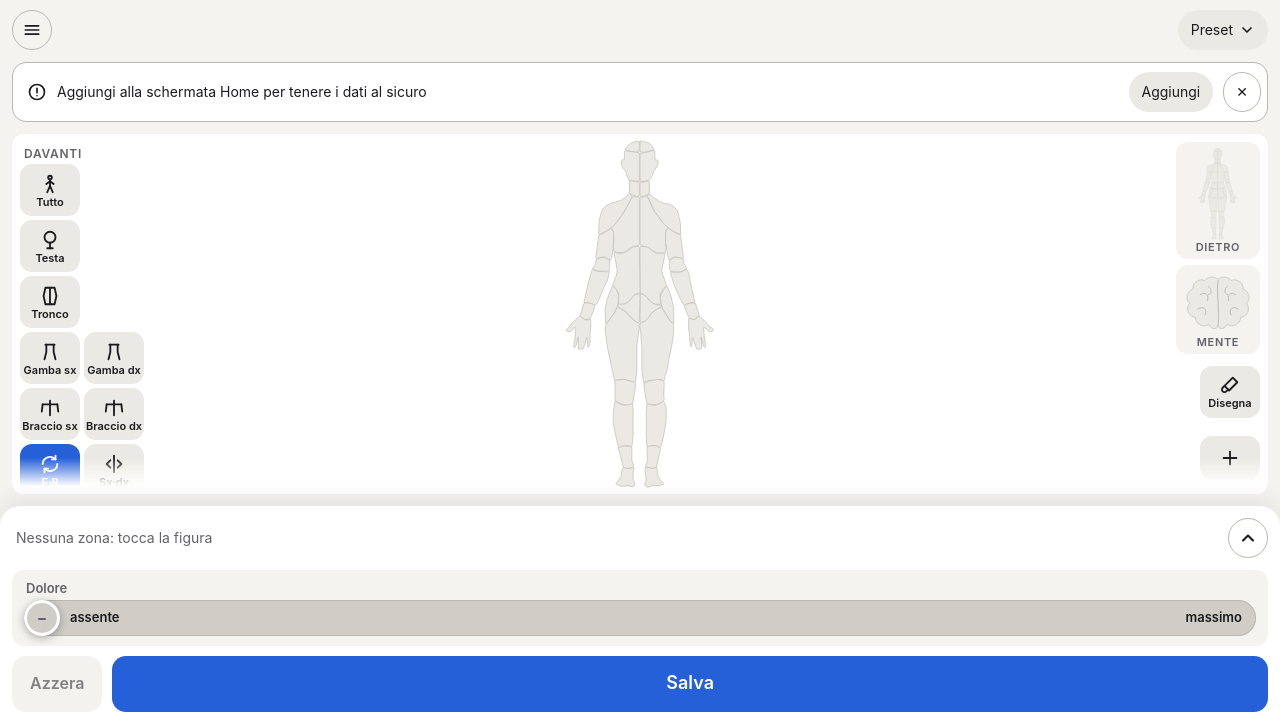
it: Log Salva › the fast path is intact: setting a level after a save makes Salva ready at once
Set the slider named "Dolore" to "4" at (518, 618), box [24,600,1256,636]
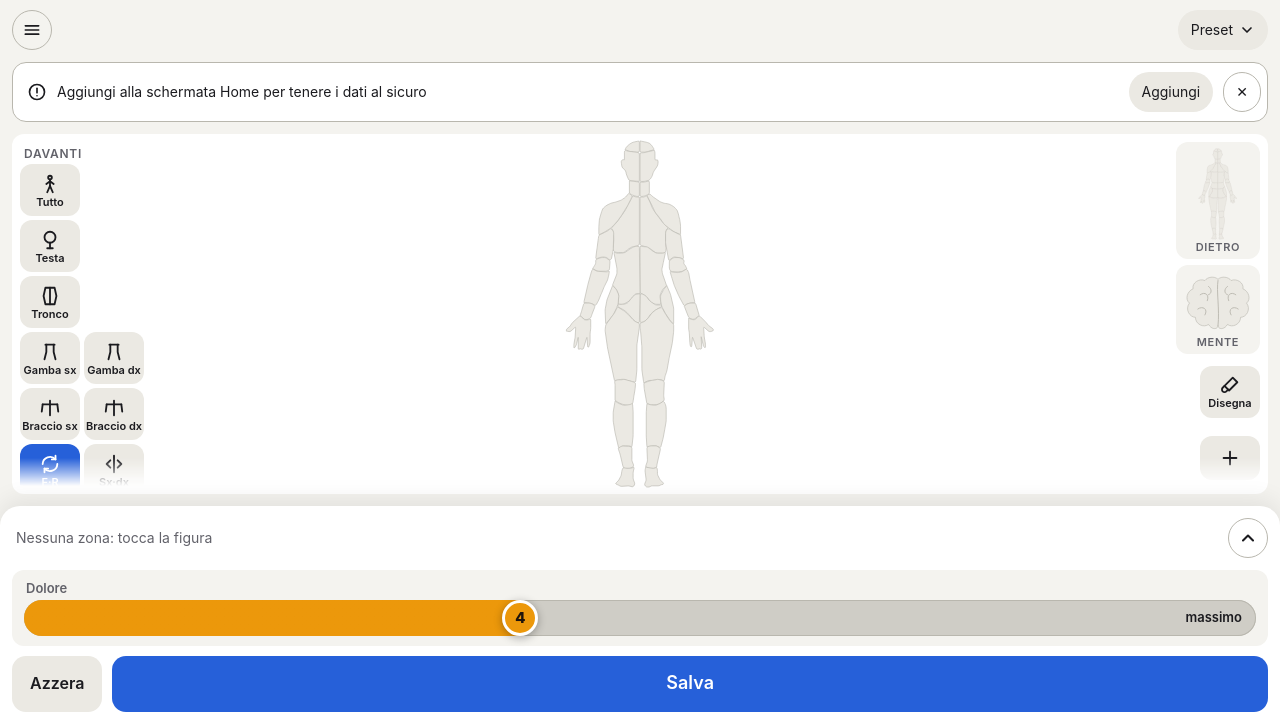
Click the button "Salva" at (690, 684), box [112,656,1268,712]
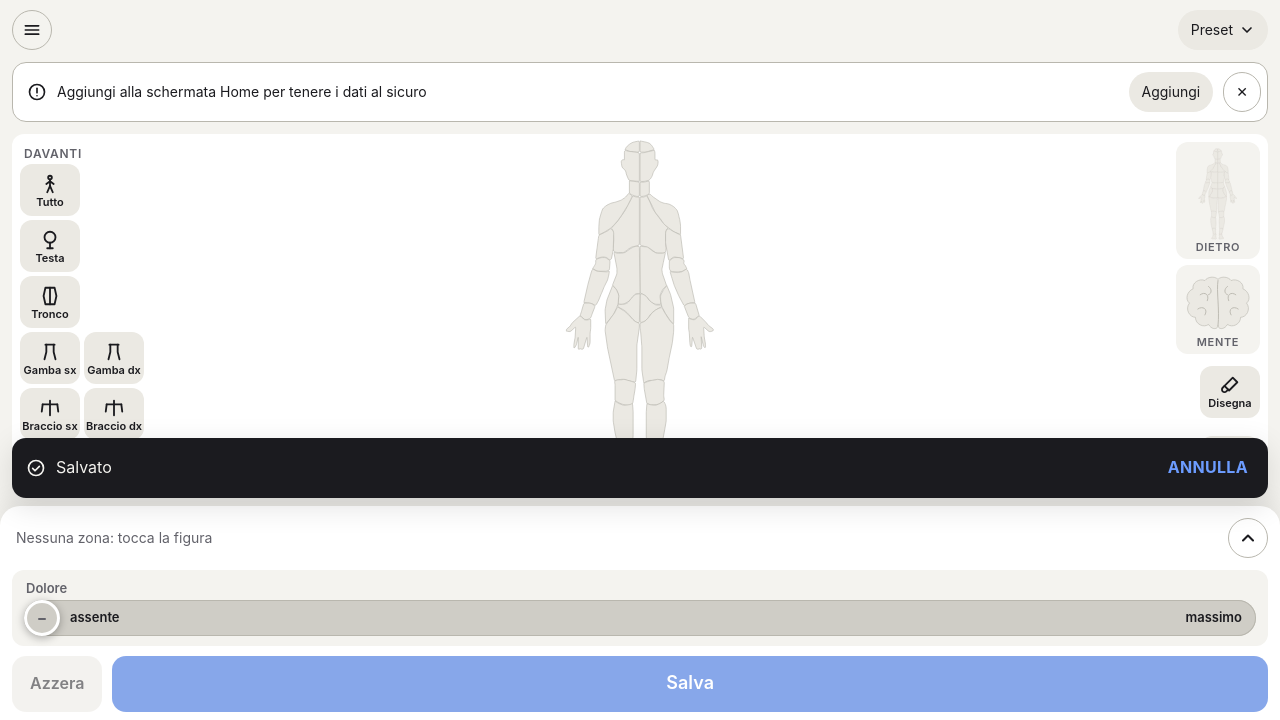
Set the slider named "Dolore" to "6" at (762, 618), box [24,600,1256,636]
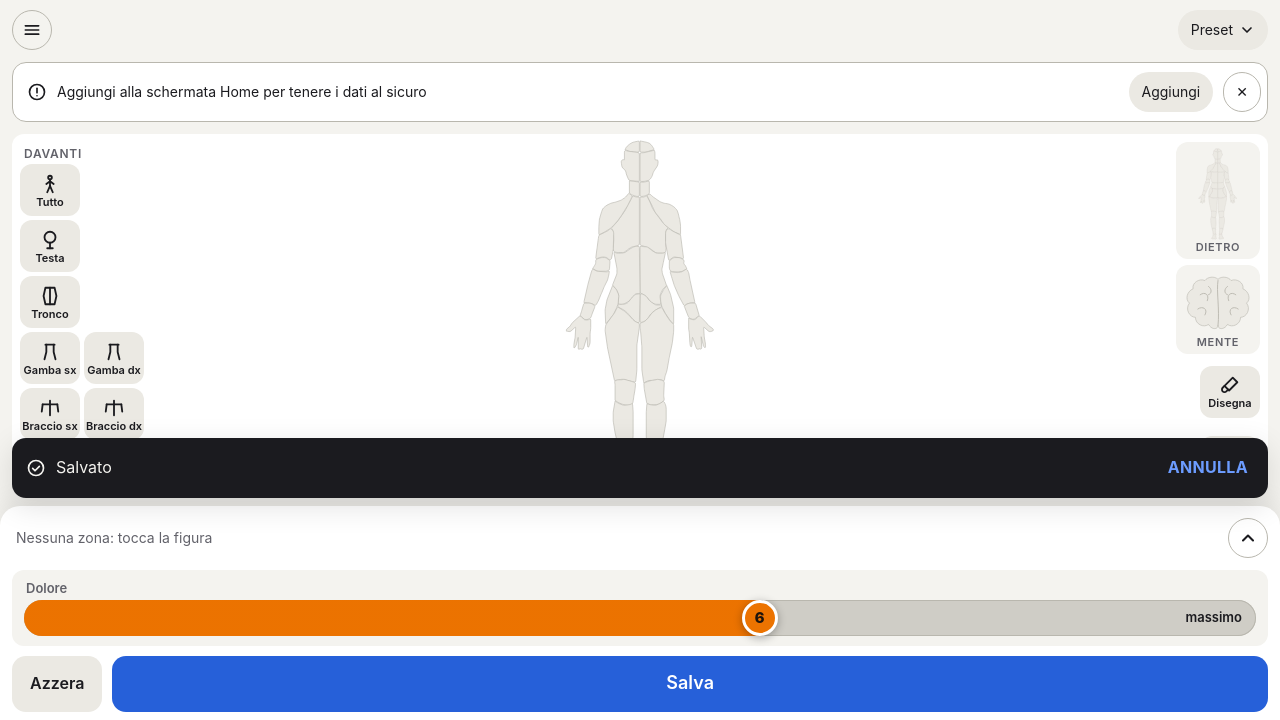
Click the button "Salva" at (690, 684), box [112,656,1268,712]
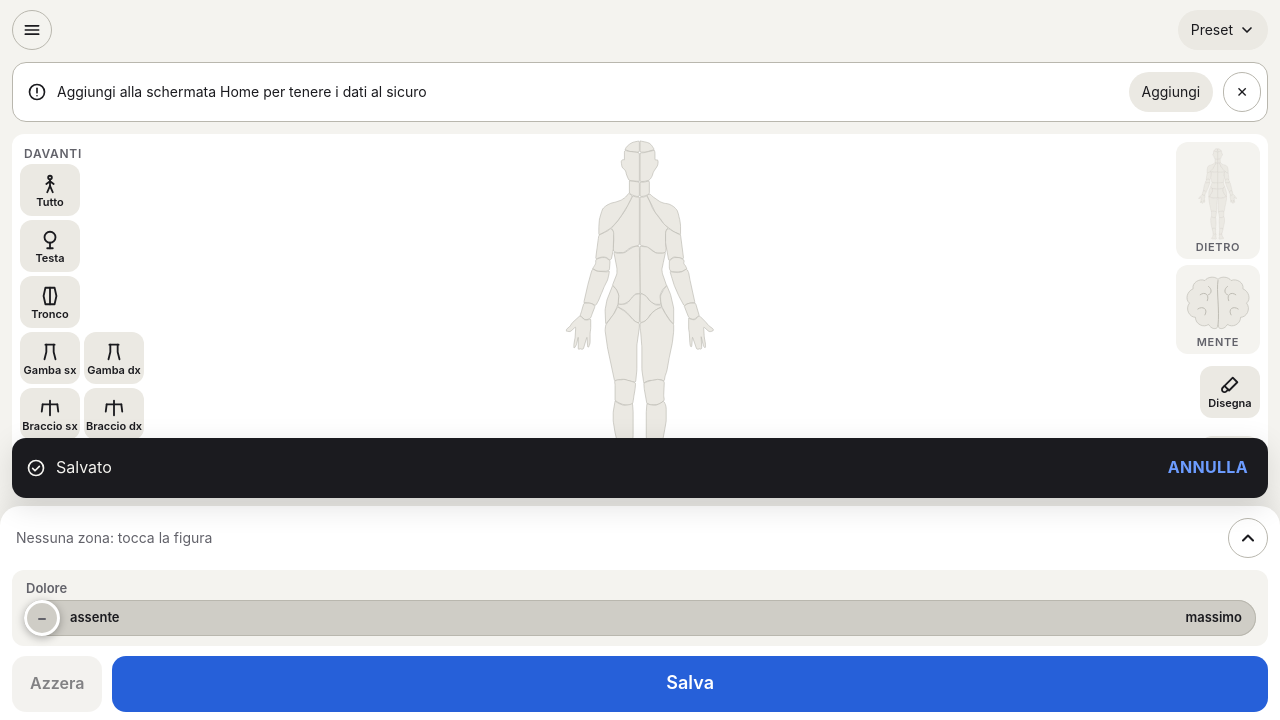
Click the button "Salva" at (690, 684), box [112,656,1268,712]
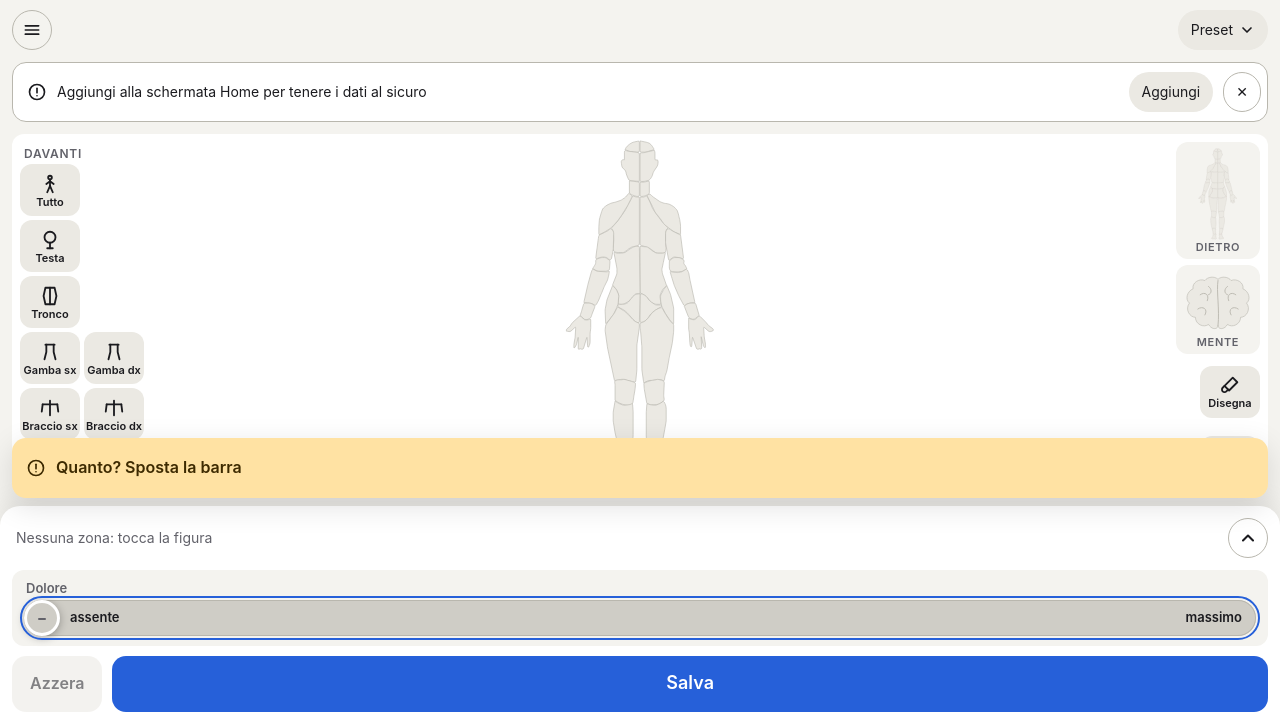
Now the text "Quanto? Sposta la barra" is shown, box [56,457,242,477]
